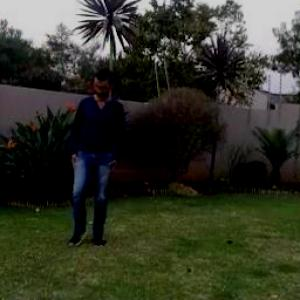follow: (66, 66, 123, 245)
